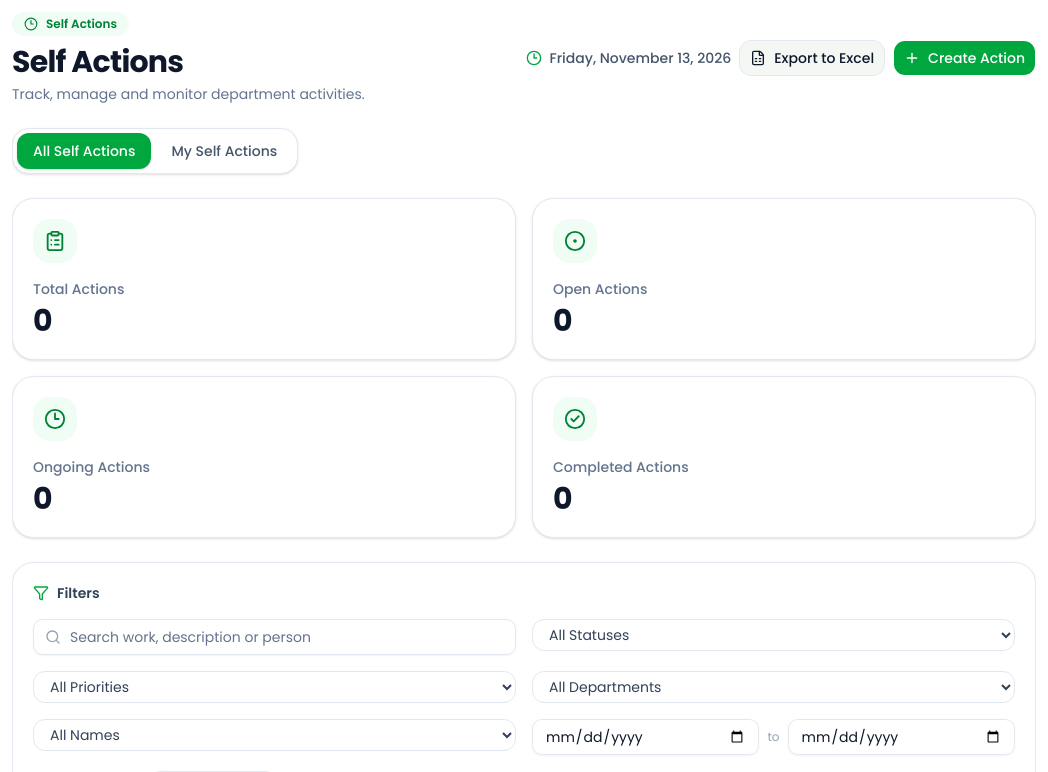
Self Actions export › shows Exporting… and disables the button while the file is made
Click the button "Export to Excel".
click(812, 58)  # box 739,40 -> 885,76
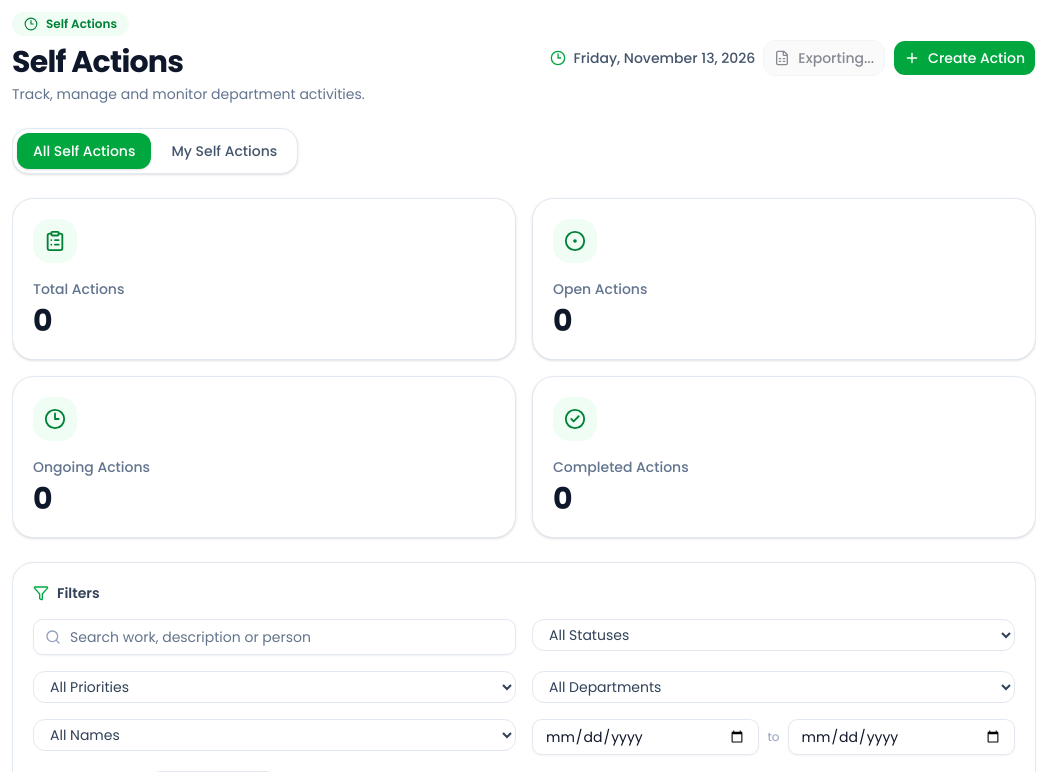
Expected: the button "Exporting..." is disabled
Pressing it again while busy starts nothing.
Click the button "Exporting...".
click(824, 58)  # box 763,40 -> 885,76
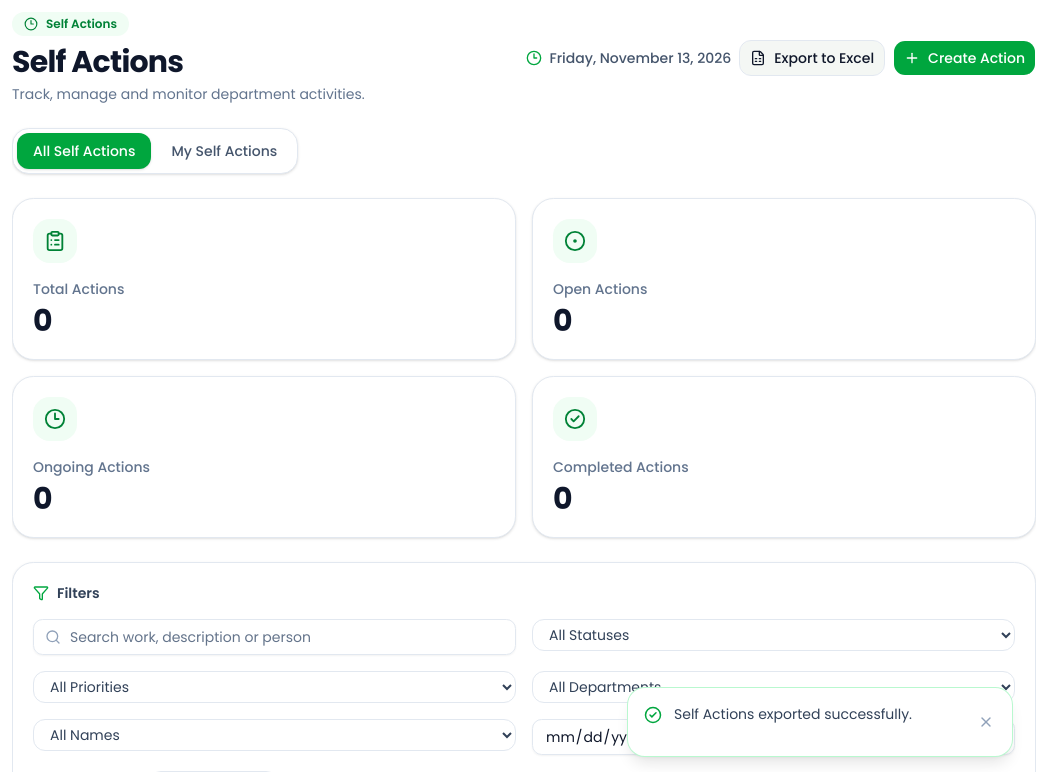
Expected: the button "Exporting" is gone
Expected: the button "Export to Excel" is enabled, 739,40 -> 885,76
